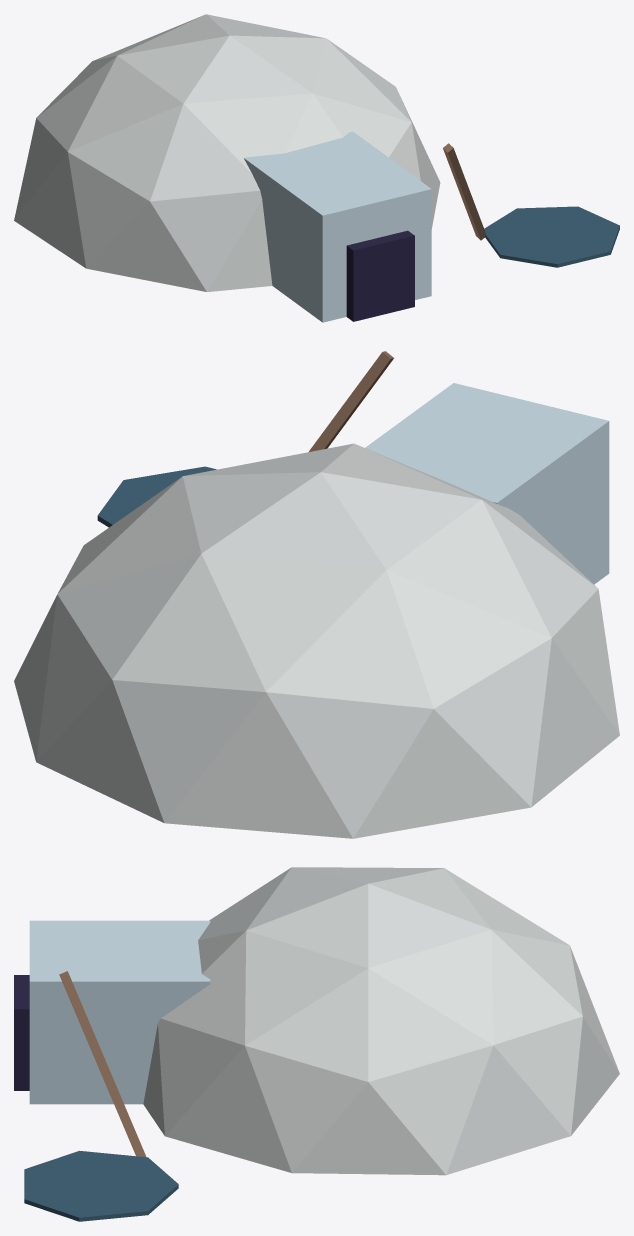
The model's file is igloo.glb.
3 views of the same model, one above another, from view 1: azimuth 30°, elevation 25°; view 2: azimuth 150°, elevation 25°; view 3: azimuth 270°, elevation 25° (orthographic). The views are drawn at different scales.
Visible parts, largest first — view 1: dome, tunnel, hole, door, detail_rod; view 2: dome, tunnel, hole, detail_rod; view 3: dome, tunnel, hole, detail_rod, door.
Boxes of the visible parts, x1=… form: dome: x1=14, y1=14, x2=440, y2=291; tunnel: x1=244, y1=131, x2=431, y2=322; hole: x1=484, y1=206, x2=619, y2=267; door: x1=346, y1=230, x2=414, y2=321; detail_rod: x1=443, y1=143, x2=485, y2=240; dome: x1=14, y1=443, x2=619, y2=838; tunnel: x1=365, y1=383, x2=609, y2=584; hole: x1=97, y1=466, x2=216, y2=527; detail_rod: x1=309, y1=351, x2=393, y2=451; dome: x1=143, y1=867, x2=619, y2=1175; tunnel: x1=29, y1=920, x2=210, y2=1104; hole: x1=24, y1=1150, x2=178, y2=1221; detail_rod: x1=59, y1=971, x2=146, y2=1157; door: x1=14, y1=975, x2=29, y2=1090.
Size of the model in its own units: 1.31 by 0.4731 by 1.34.
